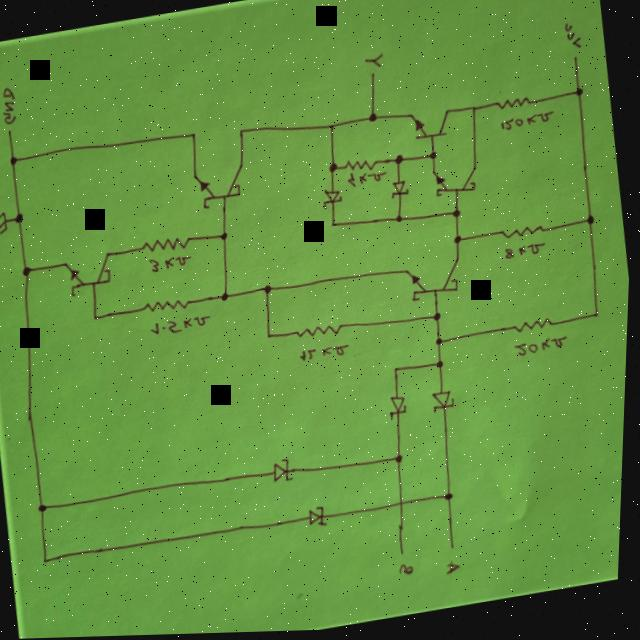crossover: (401, 502, 410, 512)
diode: (271, 458, 301, 489), (387, 396, 413, 426), (433, 390, 459, 418), (320, 187, 346, 213), (309, 505, 333, 533), (387, 180, 413, 204)
ground: (0, 211, 12, 236)
junction: (39, 502, 53, 516), (22, 266, 36, 279), (15, 213, 28, 226), (586, 218, 598, 232), (329, 164, 341, 177), (221, 293, 233, 305), (433, 314, 445, 326), (264, 286, 276, 298), (447, 494, 458, 506), (369, 115, 380, 127), (452, 212, 464, 223), (436, 339, 447, 351), (44, 556, 56, 567), (437, 363, 448, 374), (397, 456, 408, 467), (395, 157, 406, 168), (220, 233, 231, 244), (327, 124, 338, 135), (189, 132, 200, 143), (575, 91, 585, 102), (10, 156, 20, 167), (455, 238, 465, 249), (237, 129, 247, 140), (429, 154, 439, 165), (470, 107, 480, 117), (594, 314, 604, 324), (396, 217, 405, 228), (331, 222, 340, 232), (394, 368, 403, 378), (267, 334, 277, 343), (94, 315, 101, 324)
resistor: (142, 234, 195, 260), (297, 323, 347, 345), (145, 296, 194, 318), (501, 227, 547, 249), (515, 319, 559, 340), (495, 97, 536, 119), (343, 158, 382, 179)
terminal: (368, 74, 379, 85), (402, 551, 412, 562), (571, 56, 580, 68), (452, 546, 461, 556), (6, 128, 15, 137)
text: (150, 314, 216, 341), (496, 112, 558, 138), (515, 338, 571, 362), (299, 344, 354, 368), (149, 253, 196, 276), (346, 169, 391, 193), (0, 85, 21, 126), (506, 245, 548, 265), (562, 24, 585, 55), (363, 54, 386, 73), (448, 563, 468, 580), (403, 565, 419, 580)
transistor: (191, 164, 251, 214), (404, 261, 467, 306), (64, 253, 118, 303), (432, 164, 483, 206), (408, 109, 454, 147)
